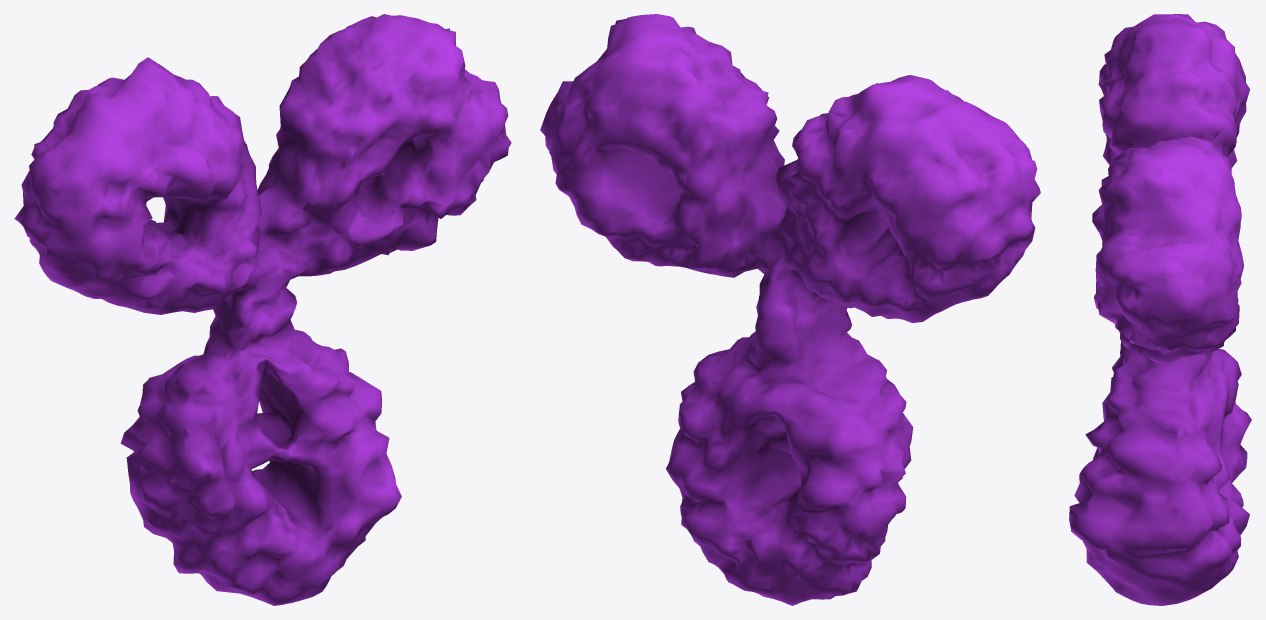
File: Avastin.glb
3 renders of one model, left to right at view 1: azimuth 30°, elevation 25°; view 2: azimuth 150°, elevation 25°; view 3: azimuth 270°, elevation 25°, orthographic. The views are drawn at different scales.
Visible parts, largest first — view 1: Sphere; view 2: Sphere; view 3: Sphere.
Boxes of the visible parts, x1,y1,x2,y2 form: Sphere: (14, 14, 511, 605); Sphere: (540, 14, 1040, 605); Sphere: (1069, 14, 1251, 605).
Bounding box in the file's own units: 2.92 × 3.2 × 1.02.
1 material, 1 textured.
